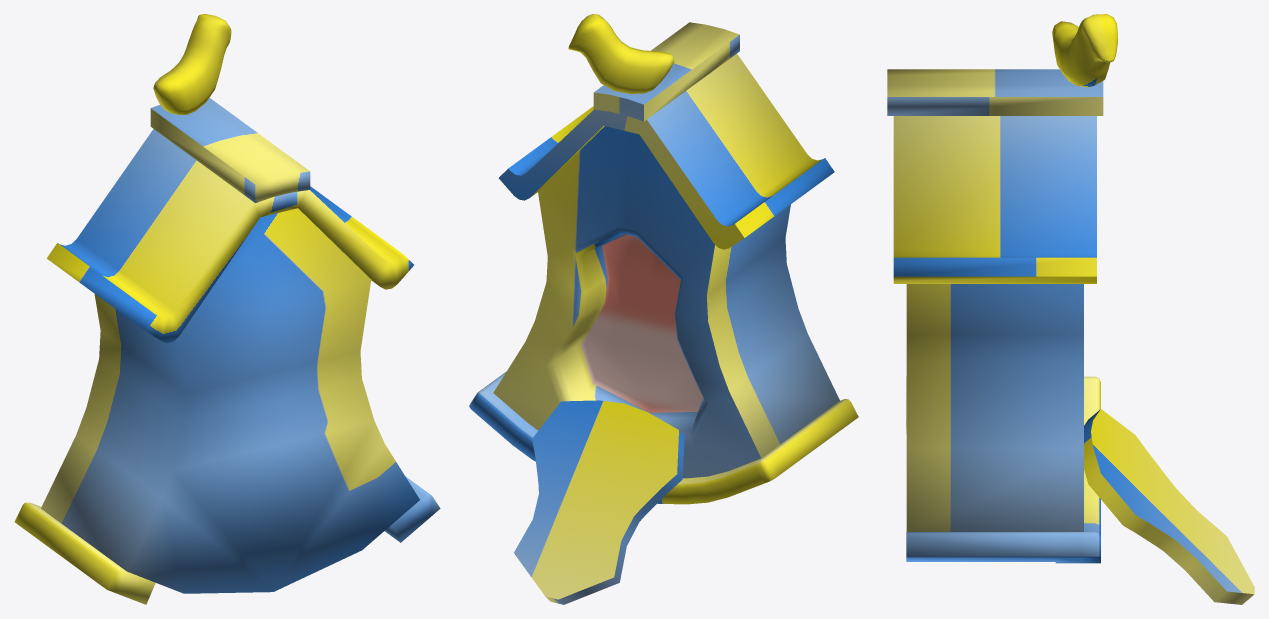
Rendered from MailboxE_purple.fbx.
3 renders of one model, left to right at view 1: azimuth 30°, elevation 25°; view 2: azimuth 150°, elevation 25°; view 3: azimuth 270°, elevation 25°, orthographic. The views are drawn at different scales.
Parts seen in each view (by area): view 1: MailboxE_blue.001, MailboxE_roofs.001, MailboxE_birdie.001; view 2: MailboxE_blue.001, MailboxE_roofs.001, MailboxE_door.001, MailboxE_birdie.001; view 3: MailboxE_roofs.001, MailboxE_blue.001, MailboxE_door.001, MailboxE_birdie.001.
Boxes of the visible parts, x1,y1,x2,y2 form: MailboxE_blue.001: (41, 208, 419, 593); MailboxE_roofs.001: (14, 97, 440, 604); MailboxE_birdie.001: (153, 14, 231, 114); MailboxE_blue.001: (493, 126, 839, 478); MailboxE_roofs.001: (469, 22, 858, 504); MailboxE_door.001: (514, 400, 684, 604); MailboxE_birdie.001: (568, 14, 674, 94); MailboxE_roofs.001: (887, 69, 1103, 563); MailboxE_blue.001: (906, 284, 1083, 531); MailboxE_door.001: (1084, 409, 1254, 604); MailboxE_birdie.001: (1052, 14, 1117, 87).
Size of the model in its own units: 131 by 219 by 121.
